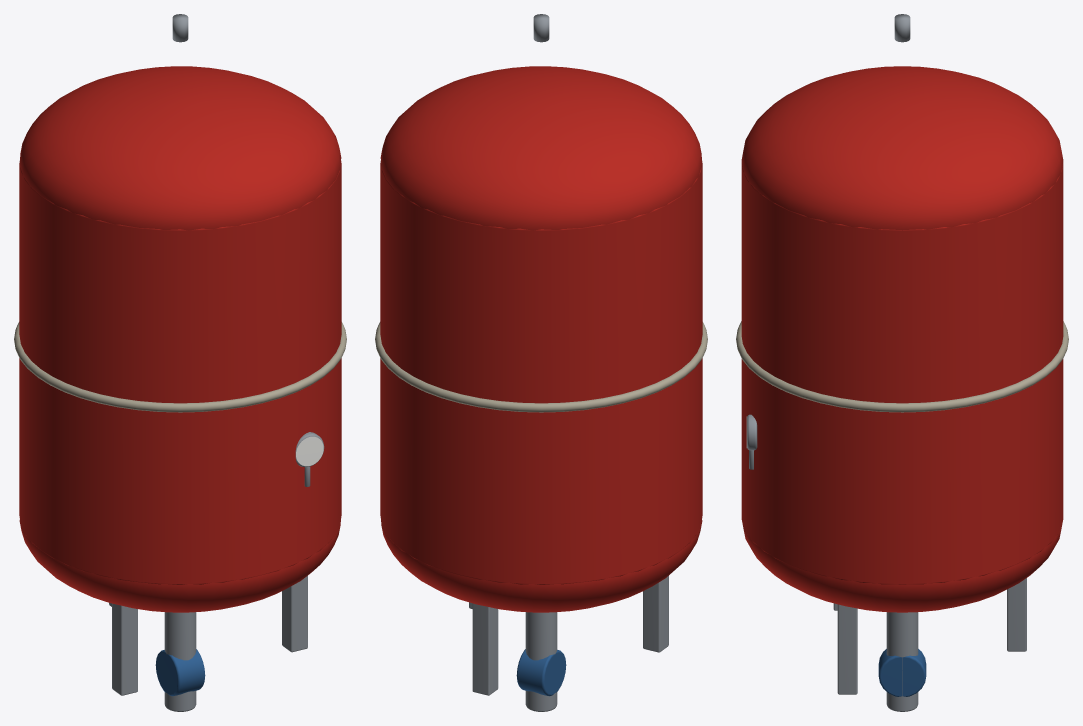
The model's file is exptank.glb.
3 renders of one model, left to right at view 1: azimuth 30°, elevation 25°; view 2: azimuth 150°, elevation 25°; view 3: azimuth 270°, elevation 25°, orthographic.
Visible parts, largest first — view 1: vessel, connection; view 2: vessel, connection; view 3: vessel, connection.
Part boxes in pixels (box(x1,y1,x2,y2)): vessel: box(14, 14, 346, 695); connection: box(155, 432, 324, 711); vessel: box(375, 14, 707, 695); connection: box(516, 612, 566, 711); vessel: box(736, 14, 1068, 694); connection: box(746, 414, 926, 711).
Size of the model in its own units: 0.8376 by 1.91 by 0.8376.
